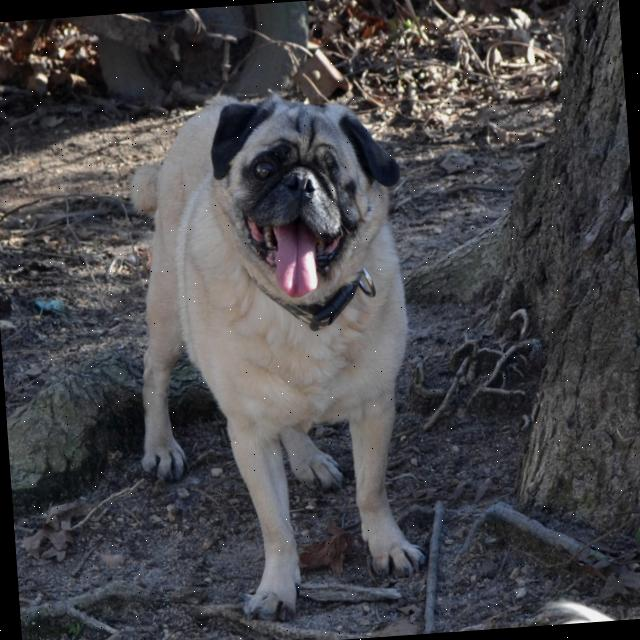pug_dog: (195, 78, 422, 316)
